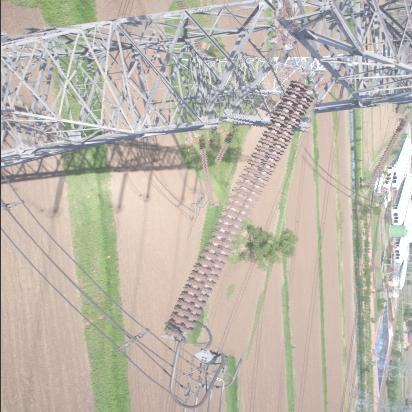insulator: (179, 56, 305, 358), (370, 112, 404, 196), (190, 137, 224, 210)
